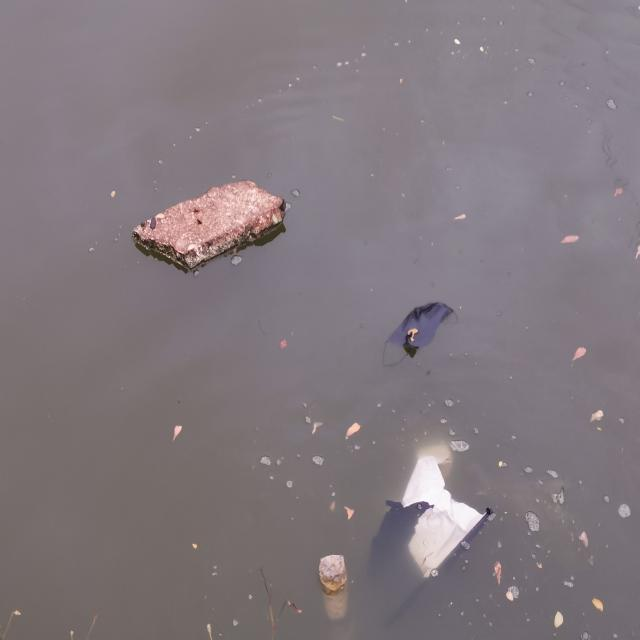foam: (127, 173, 290, 274)
plastic: (320, 550, 349, 625)
plastic bottle: (365, 440, 492, 624)
unknow: (376, 297, 454, 371)
